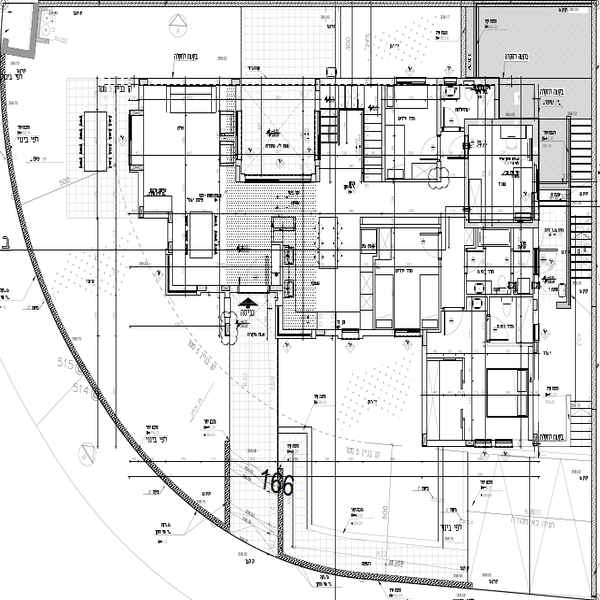room: (361, 79, 540, 230), (423, 319, 538, 449), (137, 76, 243, 214), (165, 211, 283, 292), (233, 78, 321, 184)
